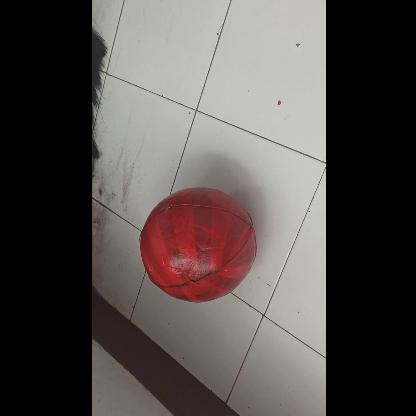red_ball: (138, 186, 254, 302)
